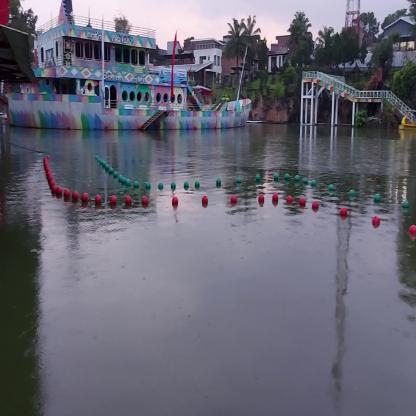green_buoy: (124, 177, 133, 190), (347, 189, 358, 199), (402, 198, 409, 213), (372, 192, 380, 204), (193, 179, 201, 190), (146, 179, 152, 193), (215, 178, 223, 188), (273, 173, 280, 184), (184, 180, 190, 191), (328, 183, 334, 194), (236, 177, 243, 186), (284, 172, 290, 182), (134, 180, 140, 190), (158, 181, 164, 191), (171, 182, 177, 192), (311, 179, 316, 190), (294, 174, 300, 183), (256, 172, 261, 182), (303, 177, 308, 185)
red_buoy: (409, 223, 416, 244), (93, 194, 102, 209), (372, 216, 380, 232), (81, 192, 90, 206), (257, 193, 265, 208), (201, 194, 209, 209), (140, 196, 150, 208), (71, 189, 80, 202), (171, 195, 180, 208), (110, 193, 117, 208), (340, 208, 347, 223), (311, 199, 319, 212), (230, 194, 238, 206), (63, 189, 70, 202), (271, 193, 278, 206), (300, 198, 307, 211), (125, 196, 132, 208), (286, 195, 292, 206), (51, 183, 57, 193), (57, 186, 62, 198)
